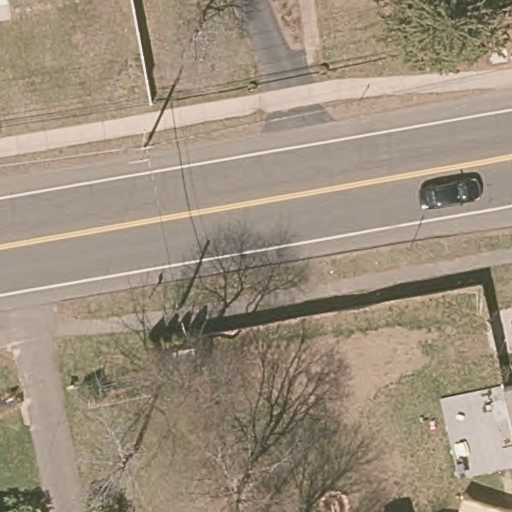DT: (127, 114, 163, 166)
